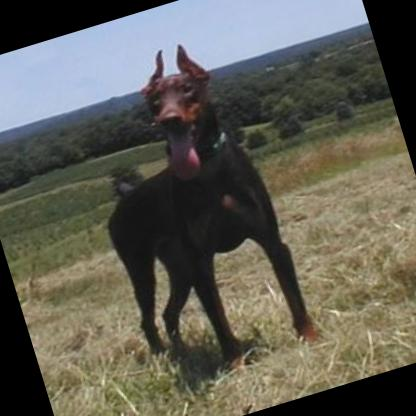Doberman: (58, 26, 320, 393)
